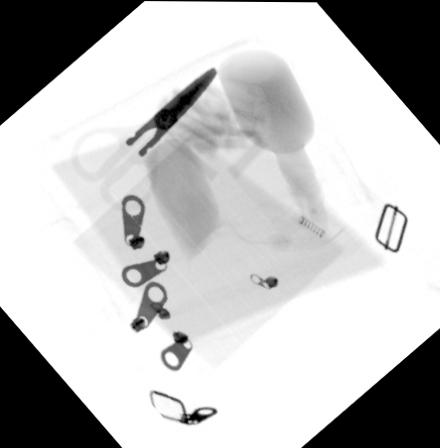Scissors: (69, 65, 215, 214)
